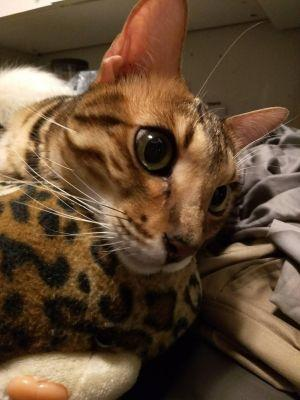bengal: (59, 1, 296, 290)
